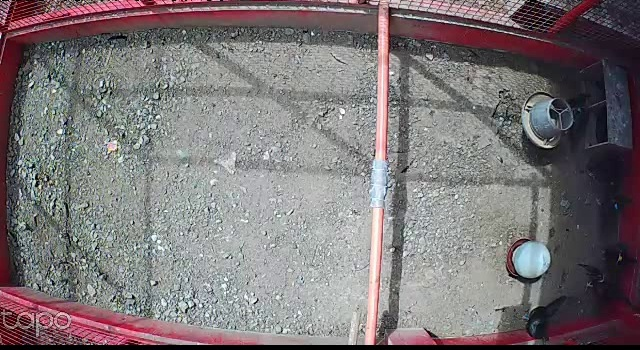Chicken: (519, 293, 568, 347), (559, 94, 591, 153), (597, 242, 639, 275)
Rooster: (574, 261, 634, 309)
Saddle_Color_Blue: (614, 202, 618, 210)
Saddle_Color_Yellow: (618, 254, 623, 264)
